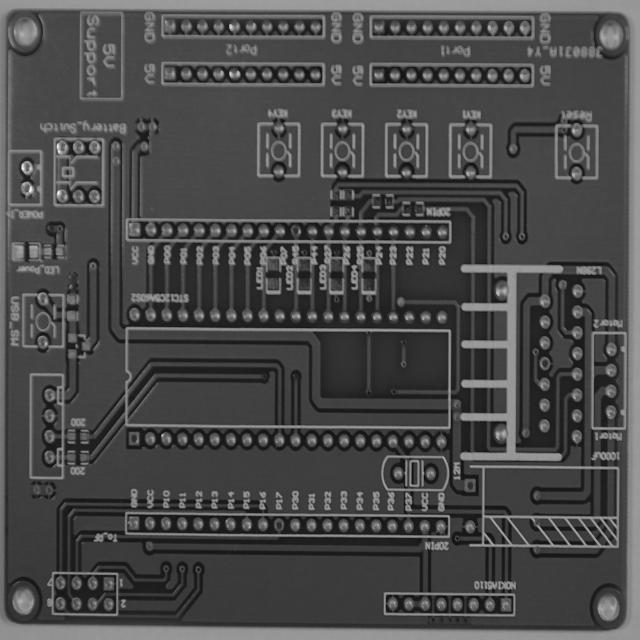missing_hole: (126, 428, 142, 448), (271, 515, 286, 536), (463, 476, 478, 496), (288, 222, 304, 240), (539, 354, 551, 372)
